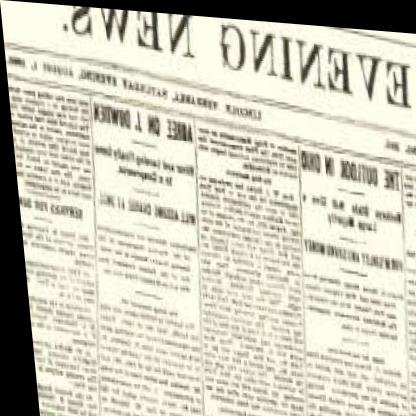Paper: (1, 7, 416, 416)
